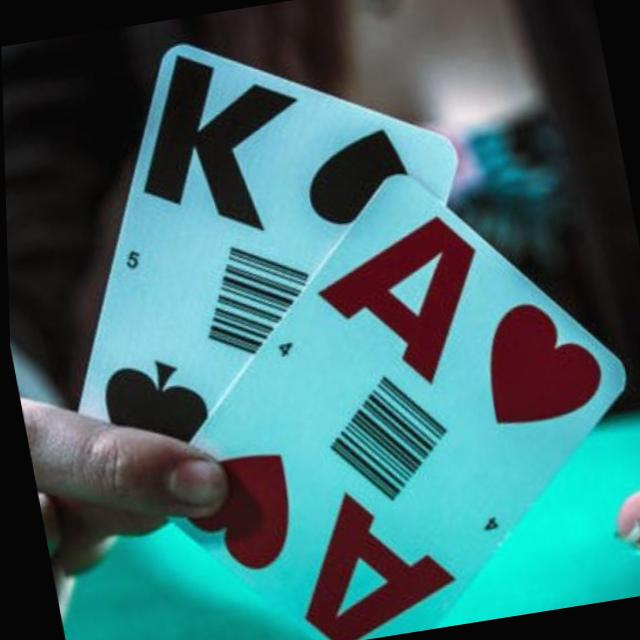Card-A: (162, 178, 624, 639)
Card-K: (75, 43, 456, 443)
